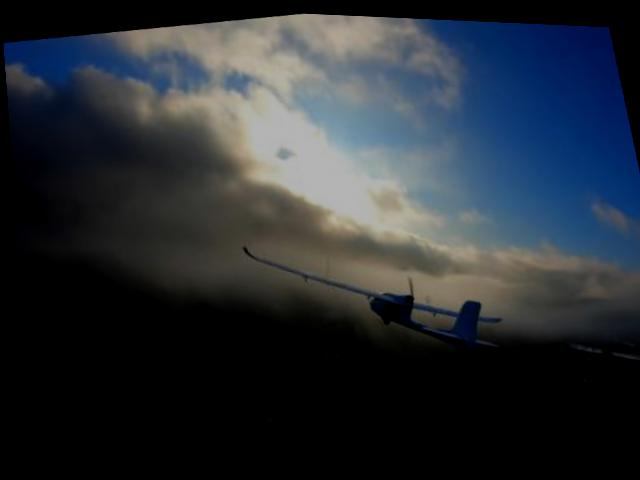uav: (226, 203, 511, 391)
